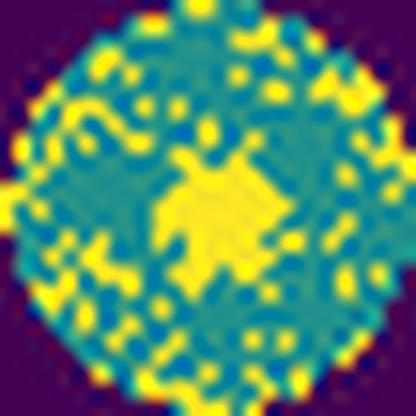Center: (154, 136, 302, 299)
